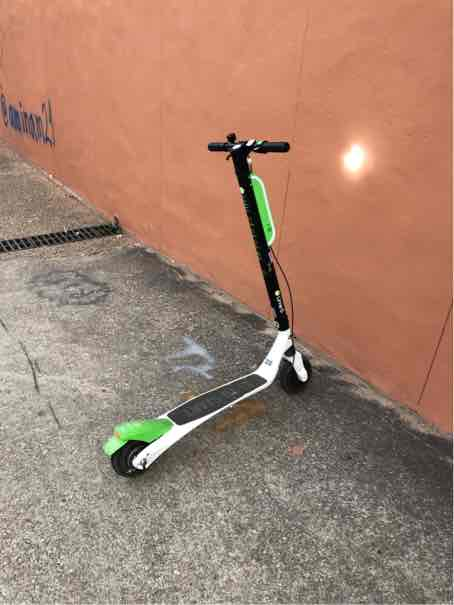scooter: (100, 121, 318, 488)
